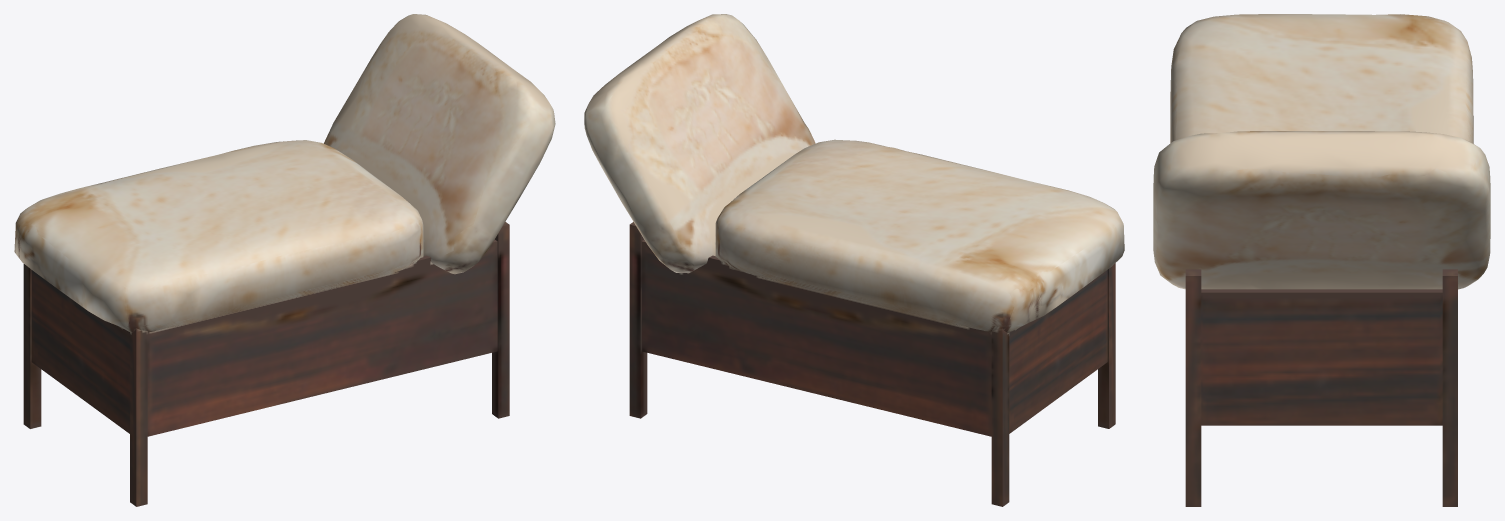
File: Bett_44012.glb
3 views of the same model, side by side, from view 1: azimuth 30°, elevation 25°; view 2: azimuth 150°, elevation 25°; view 3: azimuth 270°, elevation 25° (orthographic). The views are drawn at different scales.
Parts seen in each view (by area): view 1: Bett_44012_optimized; view 2: Bett_44012_optimized; view 3: Bett_44012_optimized.
Boxes of the visible parts, x1,y1,x2,y2 form: Bett_44012_optimized: [14, 14, 555, 506]; Bett_44012_optimized: [584, 14, 1124, 506]; Bett_44012_optimized: [1153, 14, 1490, 506].
Bounding box in the file's own units: 0.3568 × 0.2464 × 0.1947.
1 material, 1 textured.
